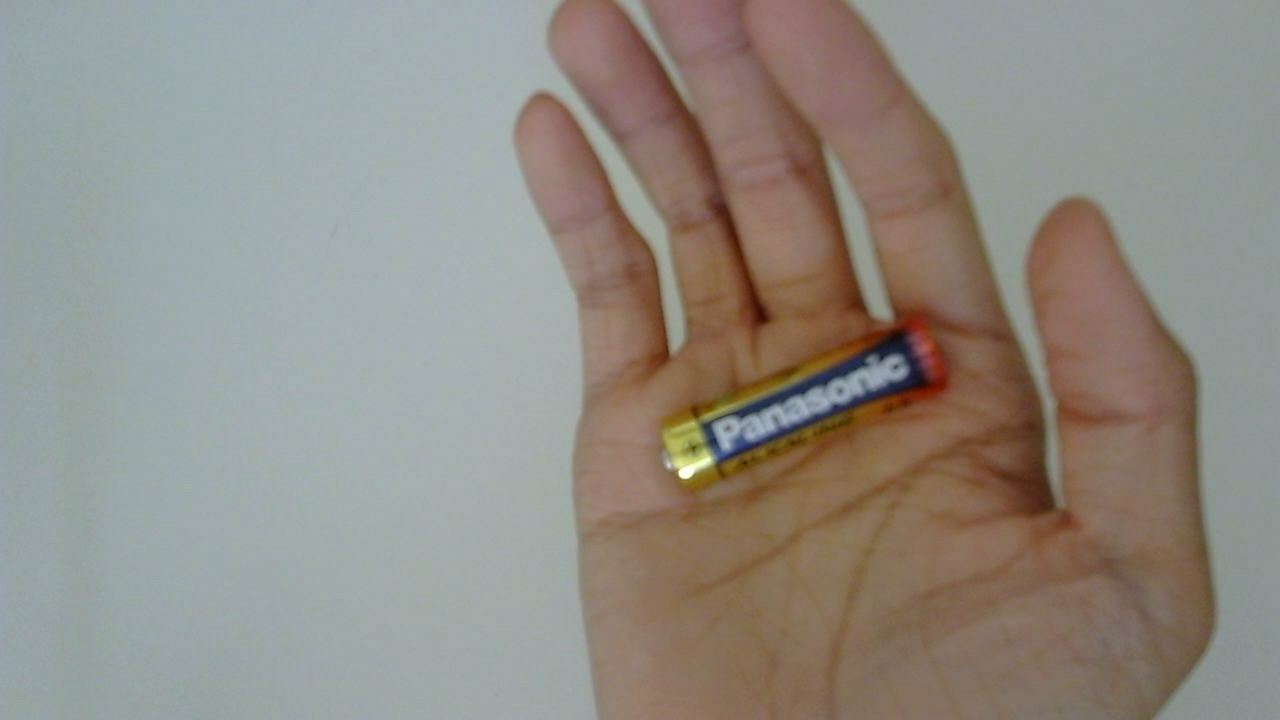Battery: (655, 315, 962, 511)
